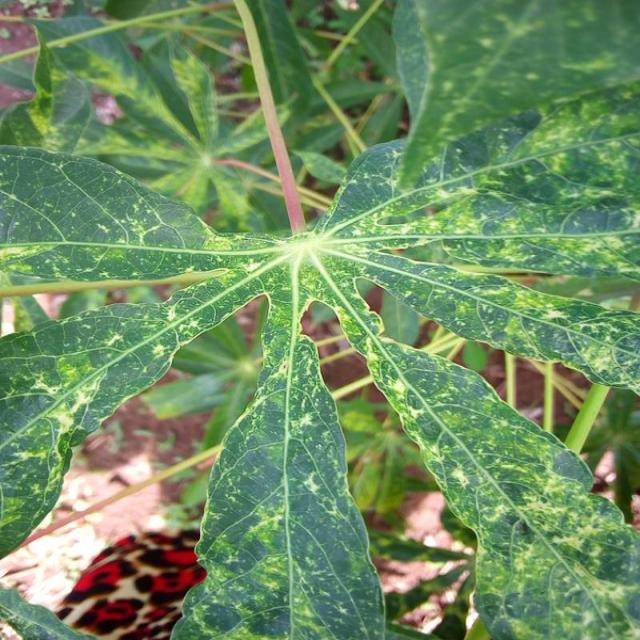cassava leaf: (0, 0, 639, 638), (169, 329, 386, 638)
